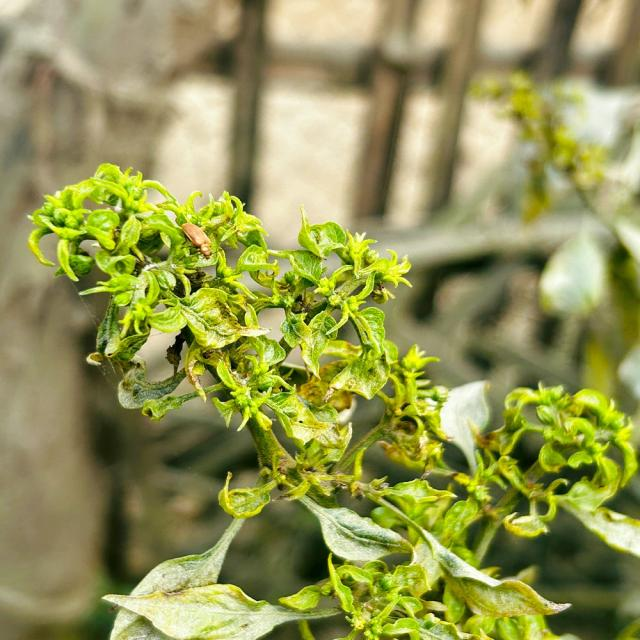Chilli_Leaf_Curl: (25, 162, 638, 637), (216, 470, 276, 520)
